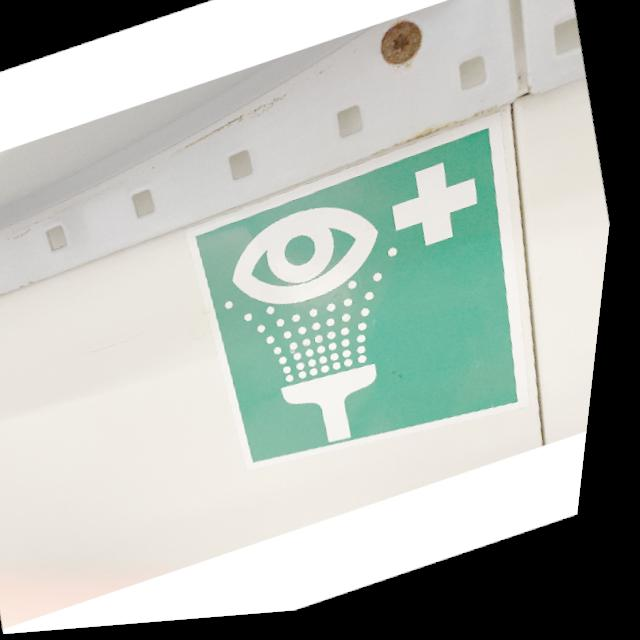eye shower: (163, 115, 582, 518)
